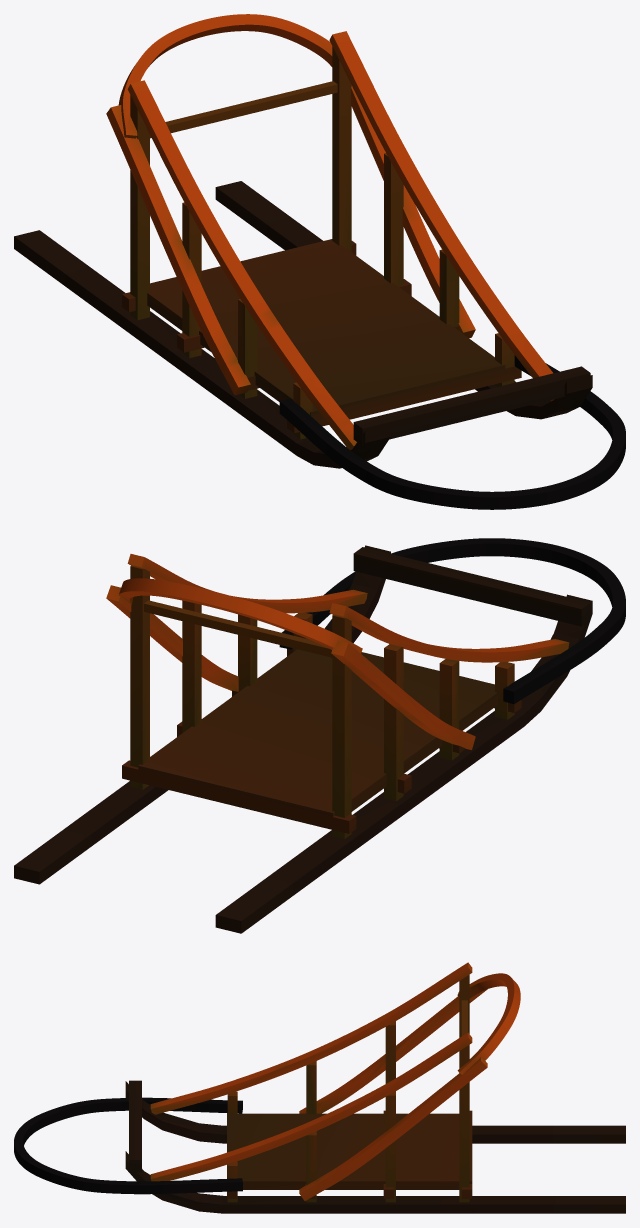
3 renders of one model, top to bottom at view 1: azimuth 30°, elevation 25°; view 2: azimuth 150°, elevation 25°; view 3: azimuth 270°, elevation 25°, orthographic. The views are drawn at different scales.
Visible parts, largest first — view 1: deck, runner.003, low_rim, rising_rail.001, rising_rail, outer_brace.001, end_crossbar, runner, high_rim, upright.003, outer_brace, upright.007 (+6 smaller); view 2: deck, runner.003, low_rim, end_crossbar, runner, high_rim, upright.003, upright.007, rising_rail.001, crosspiece.004, outer_brace.001, upright.006 (+7 smaller); view 3: deck, runner, low_rim, runner.003, rising_rail.001, rising_rail, outer_brace, outer_brace.001, high_rim, upright.003, end_crossbar, upright.002 (+4 smaller).
Boxes of the visible parts, x1=… form: deck: x1=147, y1=239, x2=505, y2=415; runner.003: x1=14, y1=230, x2=390, y2=468; low_rim: x1=279, y1=355, x2=625, y2=509; rising_rail.001: x1=127, y1=80, x2=356, y2=450; rising_rail: x1=329, y1=31, x2=554, y2=401; outer_brace.001: x1=106, y1=105, x2=250, y2=395; end_crossbar: x1=353, y1=366, x2=590, y2=445; runner: x1=215, y1=181, x2=592, y2=419; high_rim: x1=118, y1=14, x2=332, y2=138; upright.003: x1=332, y1=46, x2=351, y2=251; outer_brace: x1=351, y1=85, x2=475, y2=338; upright.007: x1=130, y1=95, x2=149, y2=320; deck: x1=138, y1=649, x2=497, y2=816; runner.003: x1=215, y1=594, x2=592, y2=933; low_rim: x1=279, y1=538, x2=625, y2=704; end_crossbar: x1=353, y1=547, x2=590, y2=626; runner: x1=14, y1=545, x2=390, y2=884; high_rim: x1=118, y1=578, x2=362, y2=653; upright.003: x1=130, y1=565, x2=149, y2=789; upright.007: x1=332, y1=615, x2=351, y2=838; rising_rail.001: x1=329, y1=603, x2=569, y2=662; crosspiece.004: x1=122, y1=760, x2=356, y2=833; outer_brace.001: x1=331, y1=640, x2=475, y2=749; upright.006: x1=384, y1=644, x2=403, y2=801; deck: x1=227, y1=1113, x2=472, y2=1189; runner: x1=125, y1=1151, x2=625, y2=1213; low_rim: x1=14, y1=1097, x2=242, y2=1194; runner.003: x1=125, y1=1081, x2=625, y2=1143; rising_rail.001: x1=150, y1=962, x2=472, y2=1114; rising_rail: x1=150, y1=1032, x2=472, y2=1181; outer_brace: x1=299, y1=1057, x2=487, y2=1200; outer_brace.001: x1=299, y1=989, x2=487, y2=1113; high_rim: x1=457, y1=973, x2=520, y2=1074; upright.003: x1=459, y1=1045, x2=469, y2=1202; end_crossbar: x1=129, y1=1080, x2=141, y2=1172; upright.002: x1=385, y1=1091, x2=395, y2=1202.
Size of the model in its own units: 0.6095 by 0.5991 by 1.8.
